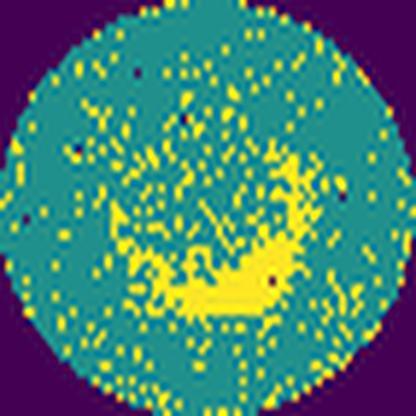Donut: (92, 69, 336, 326)
